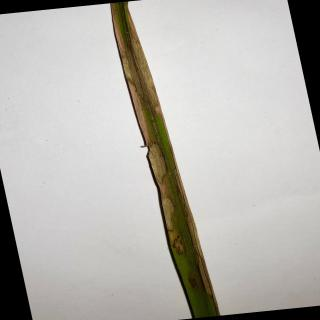Hawar-Daun: (110, 2, 187, 255), (185, 206, 216, 294)
